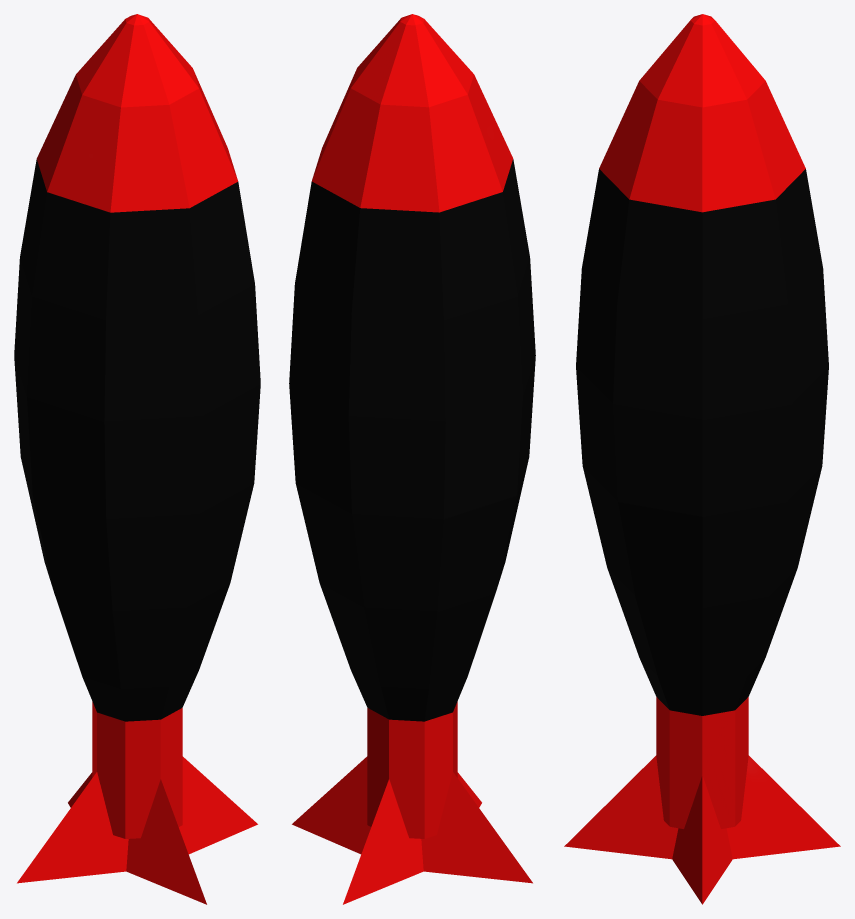
The model's file is Mortar_Projectile_Fire.fbx.
3 renders of one model, left to right at view 1: azimuth 30°, elevation 25°; view 2: azimuth 150°, elevation 25°; view 3: azimuth 270°, elevation 25°, orthographic.
Parts seen in each view (by area): view 1: Circle; view 2: Circle; view 3: Circle.
Boxes of the visible parts, x1,y1,x2,y2 form: Circle: (14, 14, 260, 904); Circle: (289, 14, 535, 904); Circle: (564, 14, 840, 904).
Size of the model in its own units: 210 by 696 by 210.
1 material, 1 textured.
